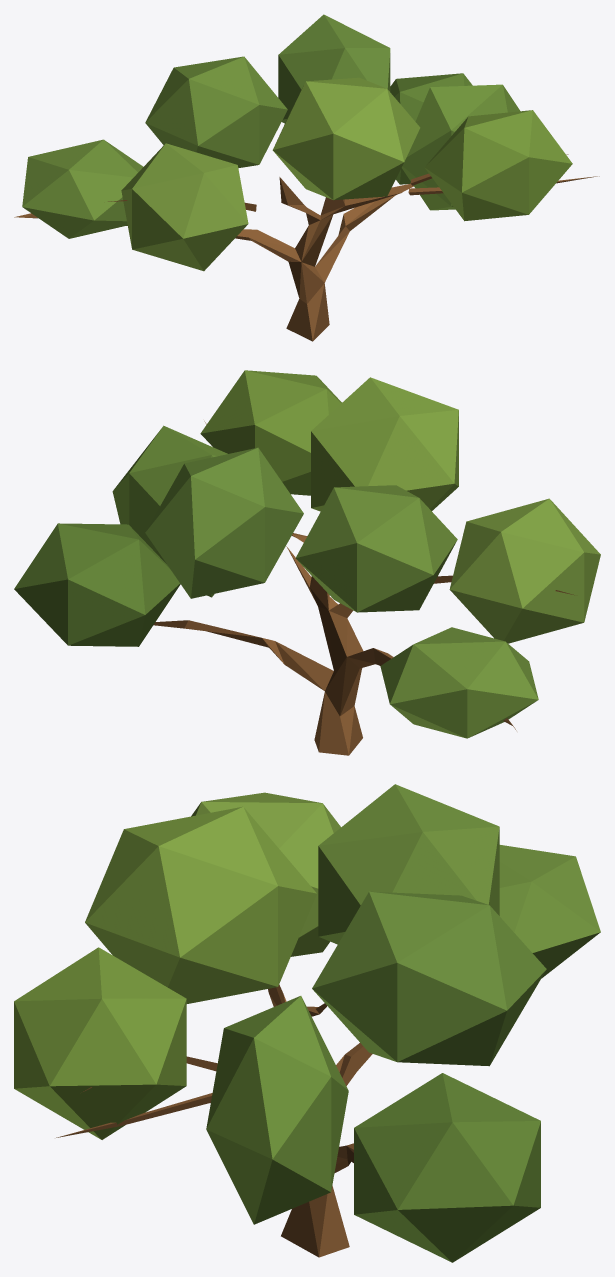
Rendered from elm_4_bloom_far.glb.
The picture shows the model from 3 angles, top to bottom: view 1: azimuth 30°, elevation 25°; view 2: azimuth 150°, elevation 25°; view 3: azimuth 270°, elevation 25°; orthographic projection. The views are drawn at different scales.
Parts seen in each view (by area): view 1: elm_4_bloom_far; view 2: elm_4_bloom_far; view 3: elm_4_bloom_far.
Boxes of the visible parts, box(x1,y1,x2,y2) form: elm_4_bloom_far: box(14, 14, 599, 341); elm_4_bloom_far: box(14, 370, 600, 755); elm_4_bloom_far: box(14, 784, 600, 1262).
Bounding box in the file's own units: 10.63 × 6.16 × 7.89.
